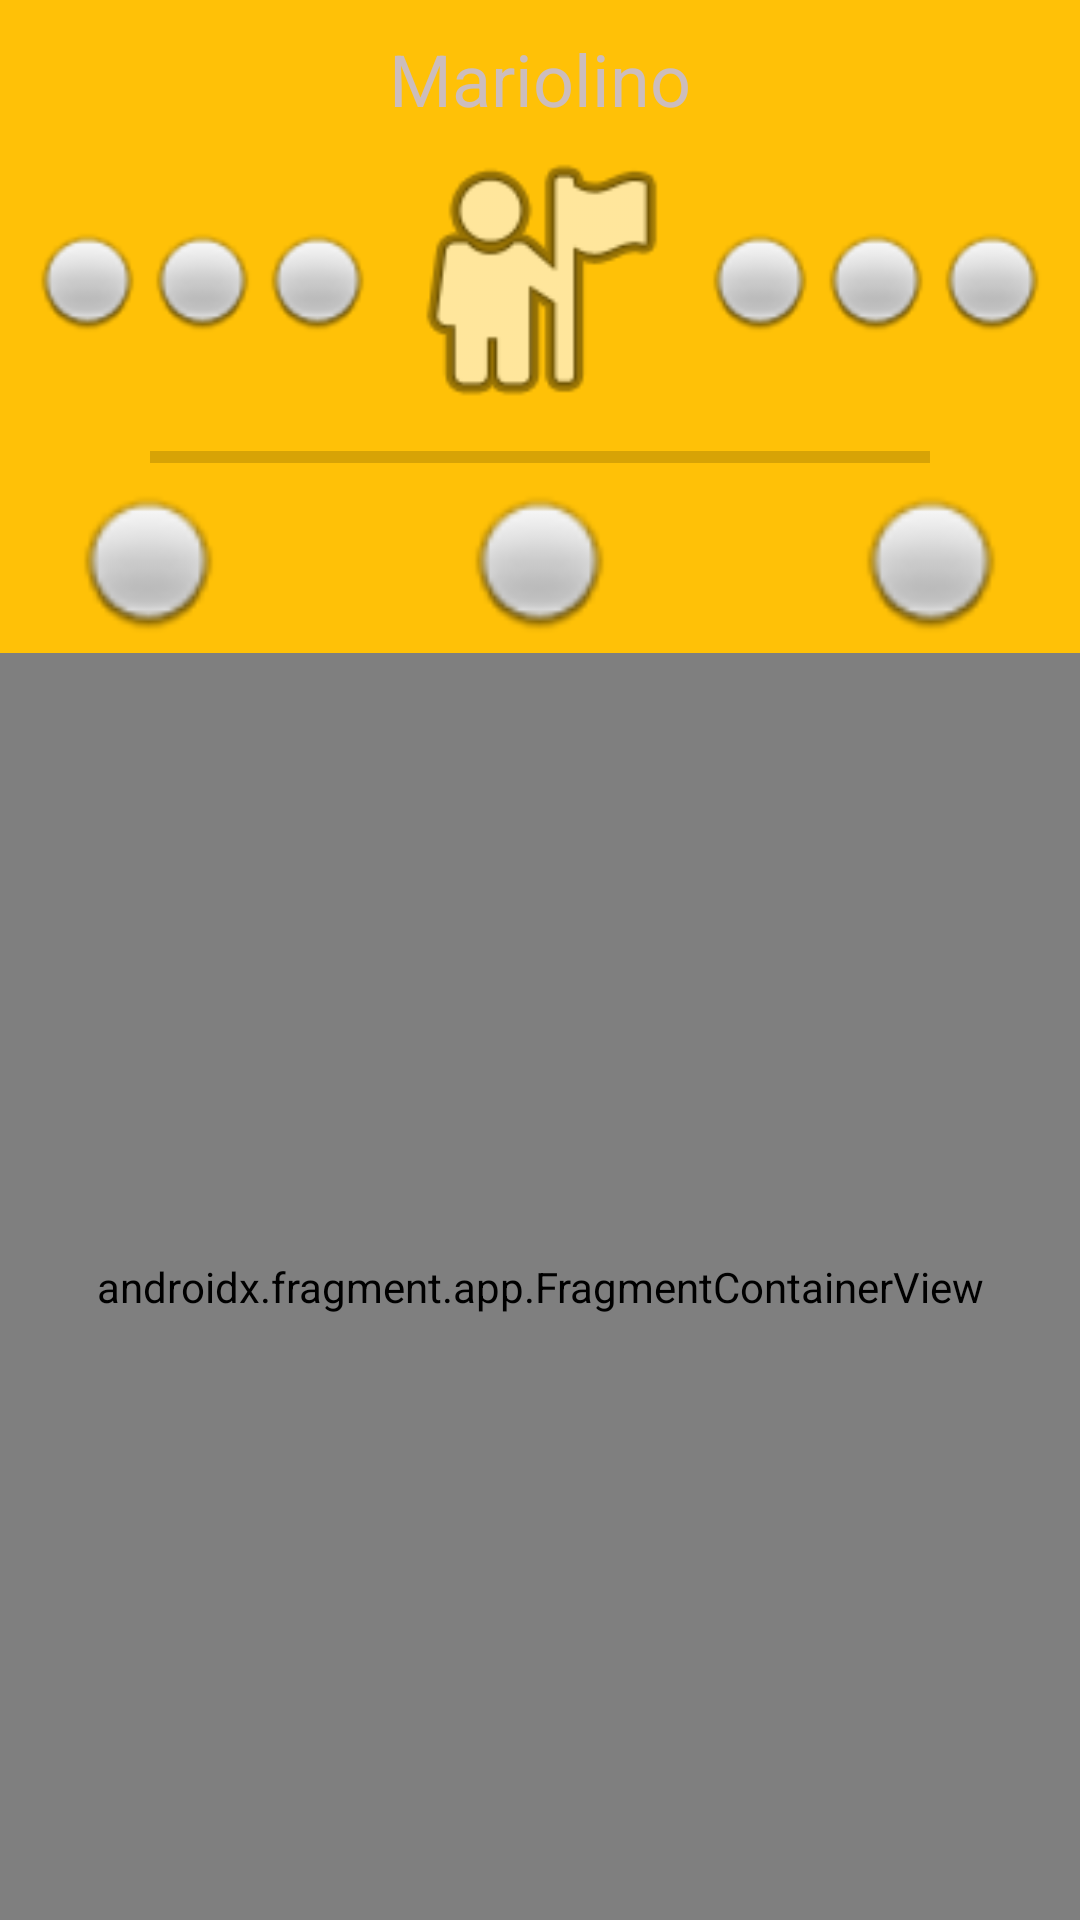

Screen size 1080px×1920px. Icon name, then its box in pixels as detection(x1, y1, x2, y2):
myplaces: detection(426, 165, 657, 395)
